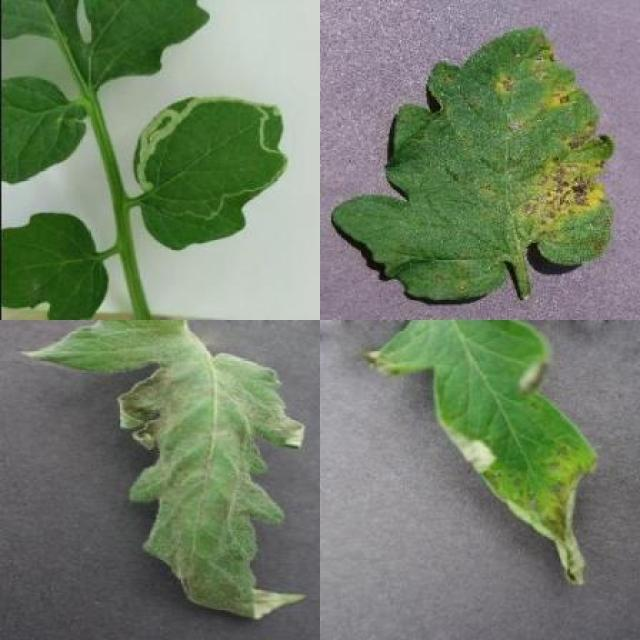Late Blight: (18, 320, 312, 620), (364, 320, 602, 587)
Leaf Miner: (131, 95, 285, 252)
Septoria: (332, 27, 617, 300)
